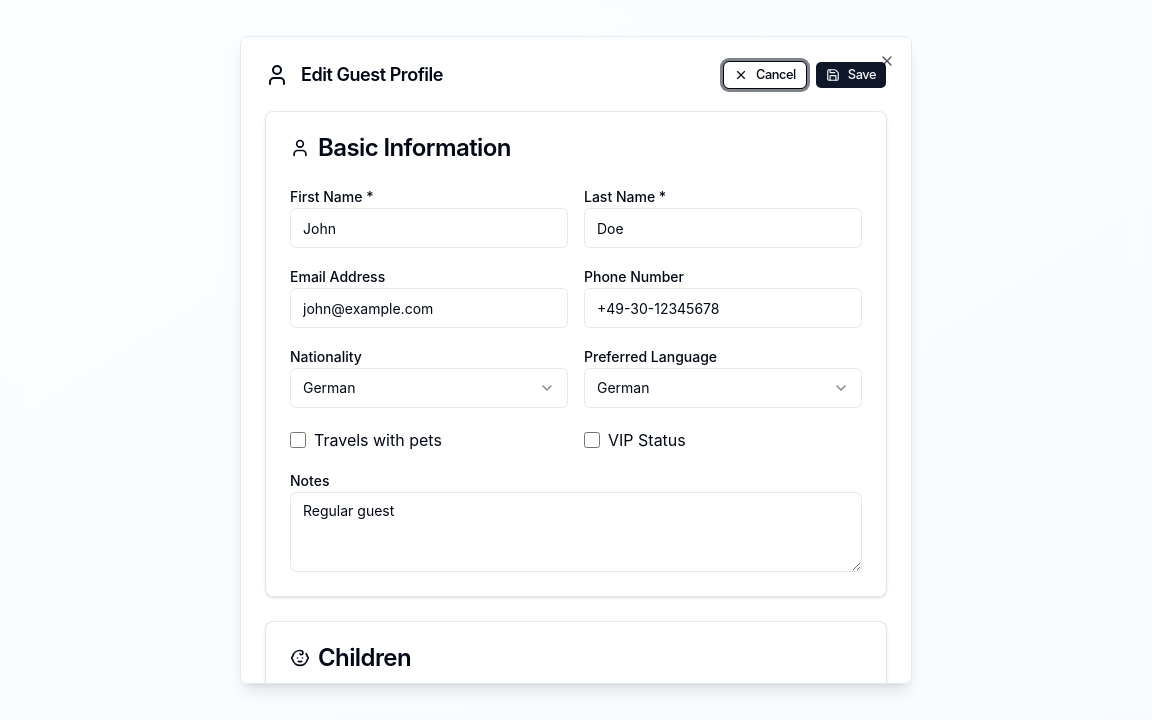
Test: GuestProfileModal › edit mode › shows save button with loading state when saving
This screenshot has width=1152, height=720.
Click the button "Save". click: click(851, 75)
box: [815,61,887,89]
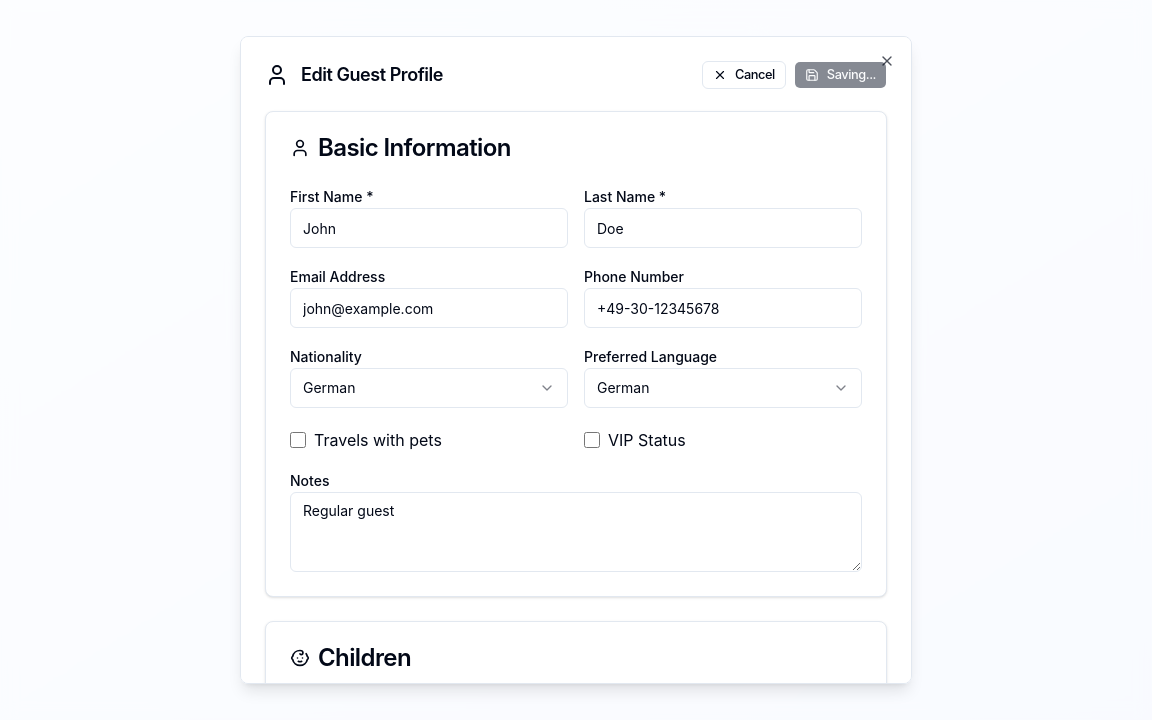
expect the button "Saving..." is disabled: met, box [794,61,887,89]
